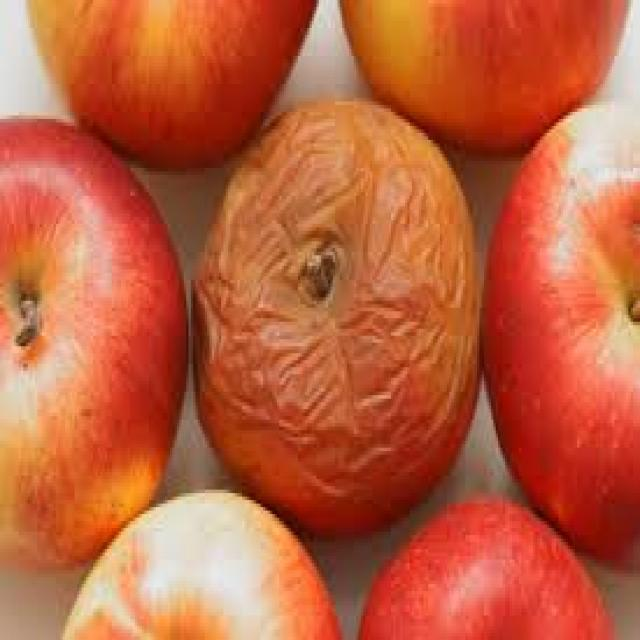organic waste: (188, 94, 480, 538), (0, 112, 186, 570), (482, 94, 638, 563), (20, 0, 316, 164), (56, 479, 340, 637), (335, 0, 628, 147), (354, 486, 607, 637)
